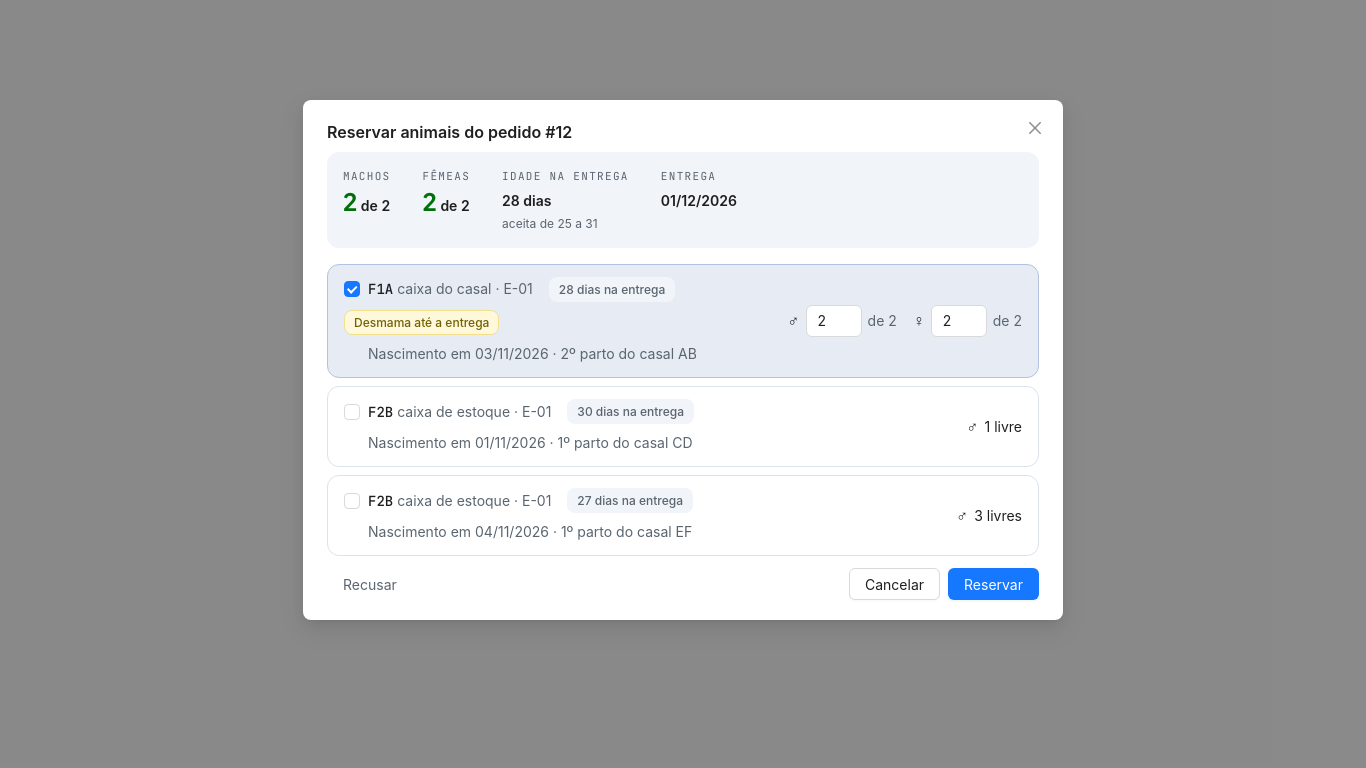
Test: reservar os animais do pedido aprovado › o zero fica no placeholder: apagado o número, o campo não volta como "0"
Later steps or results of the test are not shown.
Click the checkbox named "Reservar da caixa F2B, nascimento em 01/11/2026" at (452, 412), box [344,401,559,423]
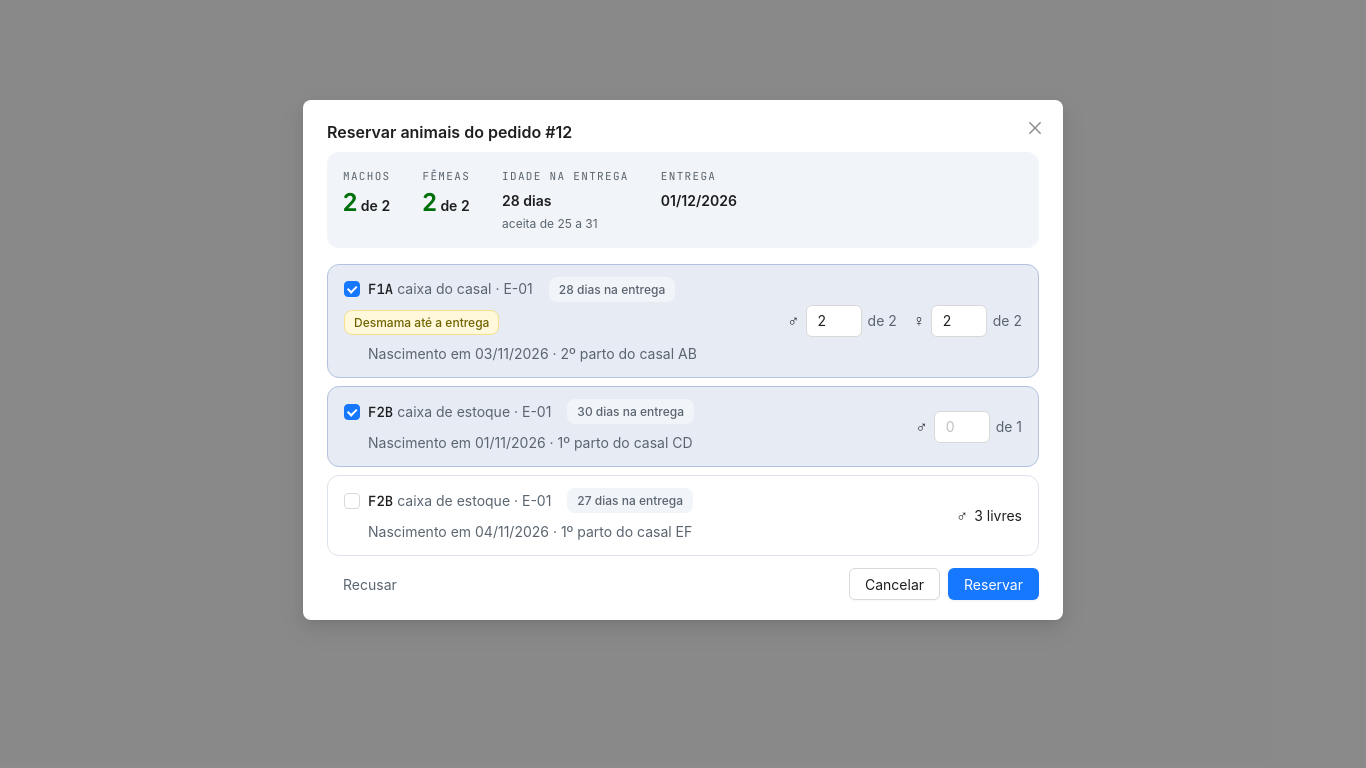
Expected: the number field named "Machos a reservar da caixa F2B, nascimento em 01/11/2026" is empty, [935,412,989,442]
